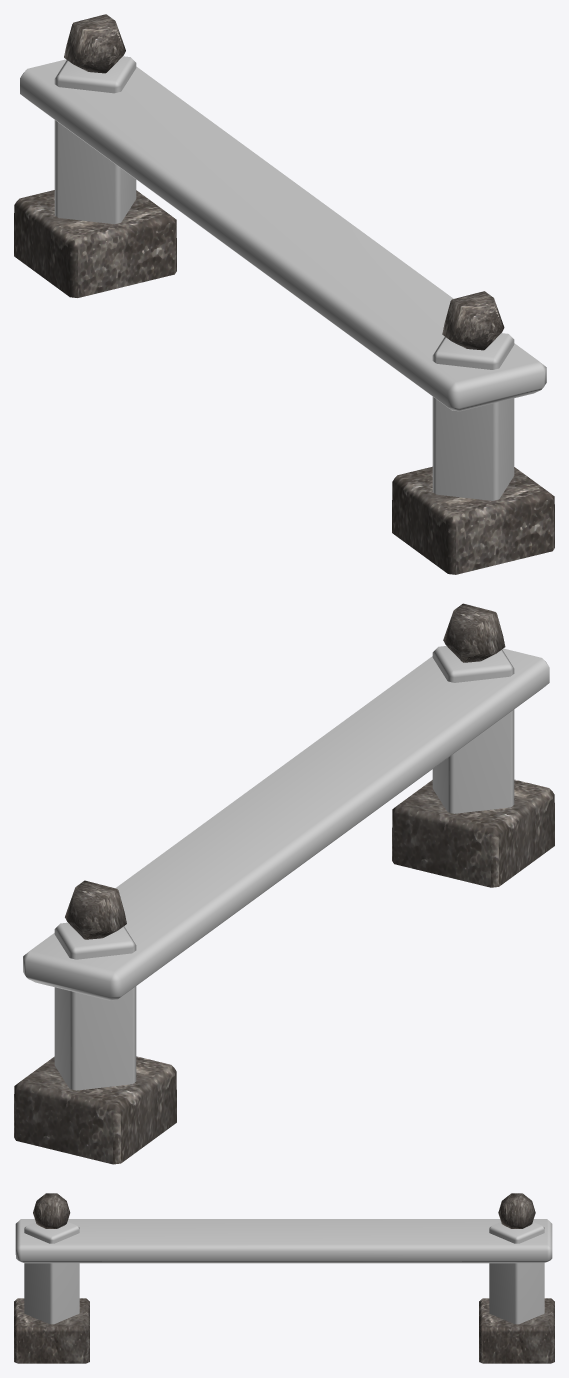
File: StoneFence.fbx
3 views of the same model, one above another, from view 1: azimuth 30°, elevation 25°; view 2: azimuth 150°, elevation 25°; view 3: azimuth 270°, elevation 25° (orthographic). The views are drawn at different scales.
Parts seen in each view (by area): view 1: Mesh; view 2: Mesh; view 3: Mesh.
Boxes of the visible parts, box(x1,y1,x2,y2) form: Mesh: box(14, 14, 554, 574); Mesh: box(14, 603, 554, 1164); Mesh: box(14, 1193, 554, 1363).
Bounding box in the file's own units: 42.15 × 91.26 × 300.
